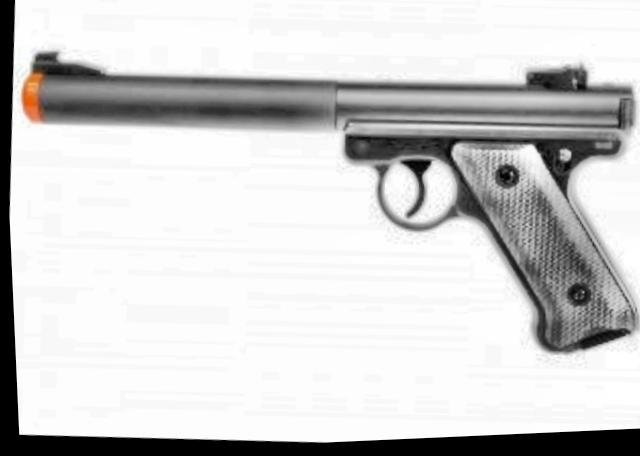pistol: (4, 22, 640, 381)
